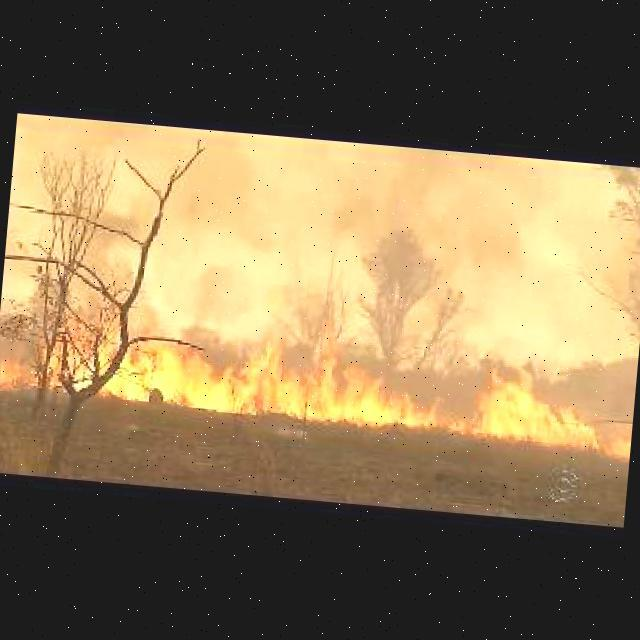Fire: (35, 314, 446, 427), (453, 371, 590, 450), (0, 352, 26, 390)
